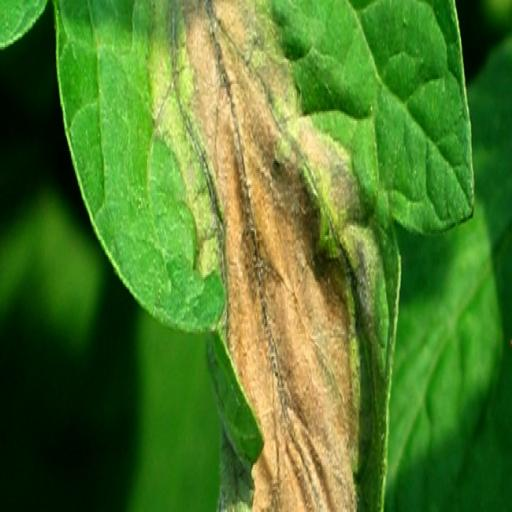disease_tomato: (51, 7, 496, 507)
